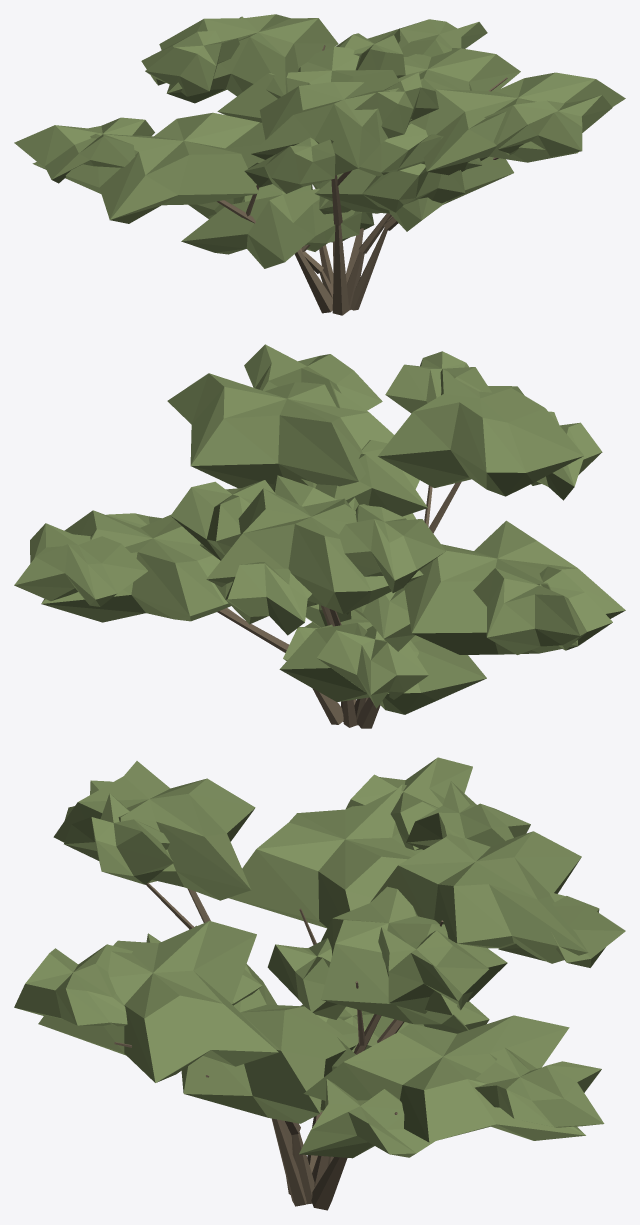
File: sand-plum-low-high.glb
3 renders of one model, top to bottom at view 1: azimuth 30°, elevation 25°; view 2: azimuth 150°, elevation 25°; view 3: azimuth 270°, elevation 25°, orthographic. The views are drawn at different scales.
Visible parts, largest first — view 1: sand-plum-low-high / foliage, sand-plum-low-high / stems; view 2: sand-plum-low-high / foliage, sand-plum-low-high / stems; view 3: sand-plum-low-high / foliage, sand-plum-low-high / stems.
Part boxes in pixels (x1,y1,x2,y2): sand-plum-low-high / foliage: (14, 14, 625, 268); sand-plum-low-high / stems: (217, 45, 507, 315); sand-plum-low-high / foliage: (14, 344, 625, 714); sand-plum-low-high / stems: (217, 482, 461, 728); sand-plum-low-high / foliage: (14, 757, 625, 1158); sand-plum-low-high / stems: (114, 882, 443, 1210).
Bounding box in the file's own units: 2.14 × 1.17 × 1.69.
